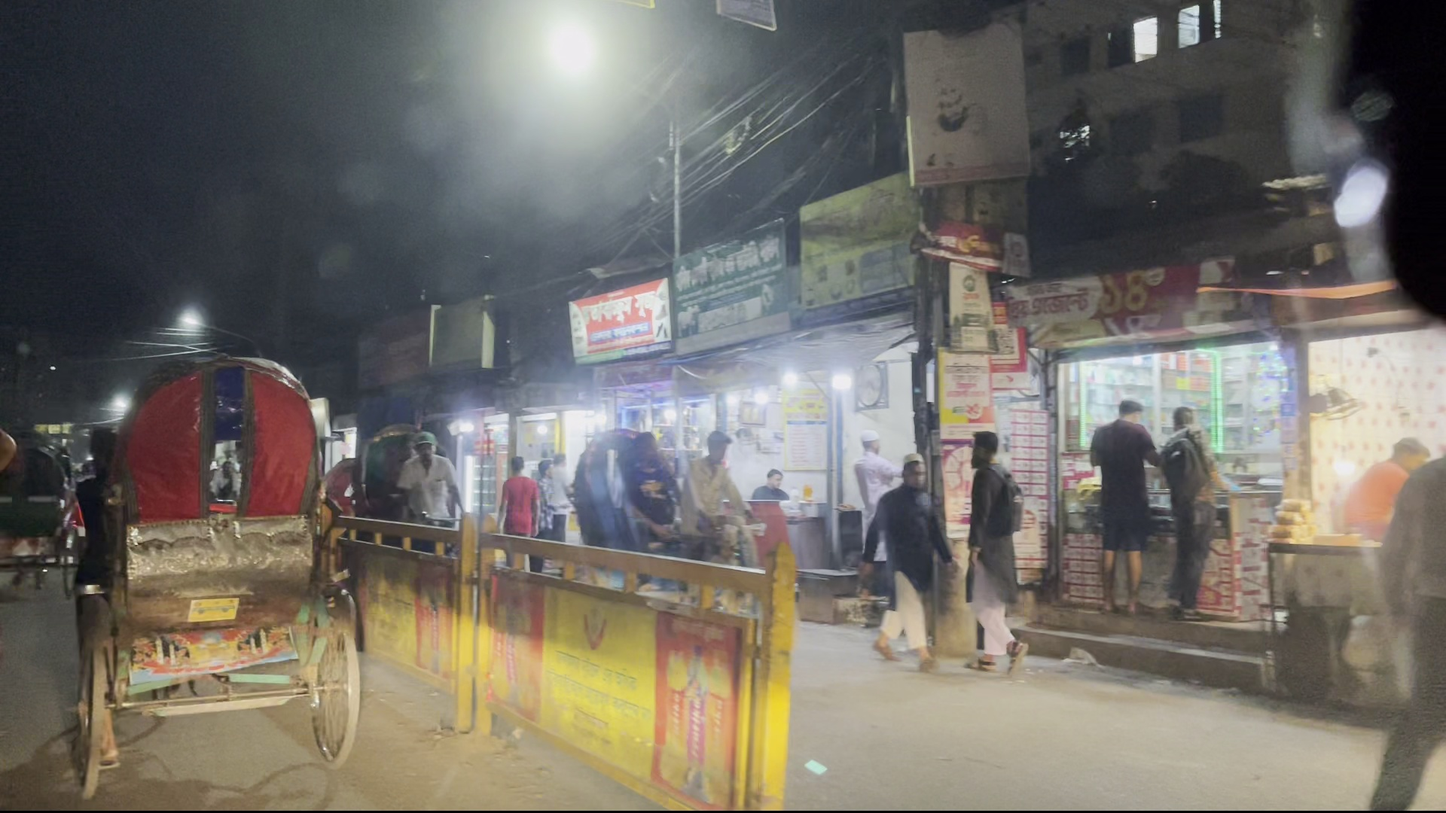person: (953, 424, 1026, 672), (868, 444, 941, 670), (1091, 401, 1167, 598), (1166, 404, 1223, 627), (499, 453, 540, 564), (536, 456, 557, 550), (554, 449, 573, 549)
